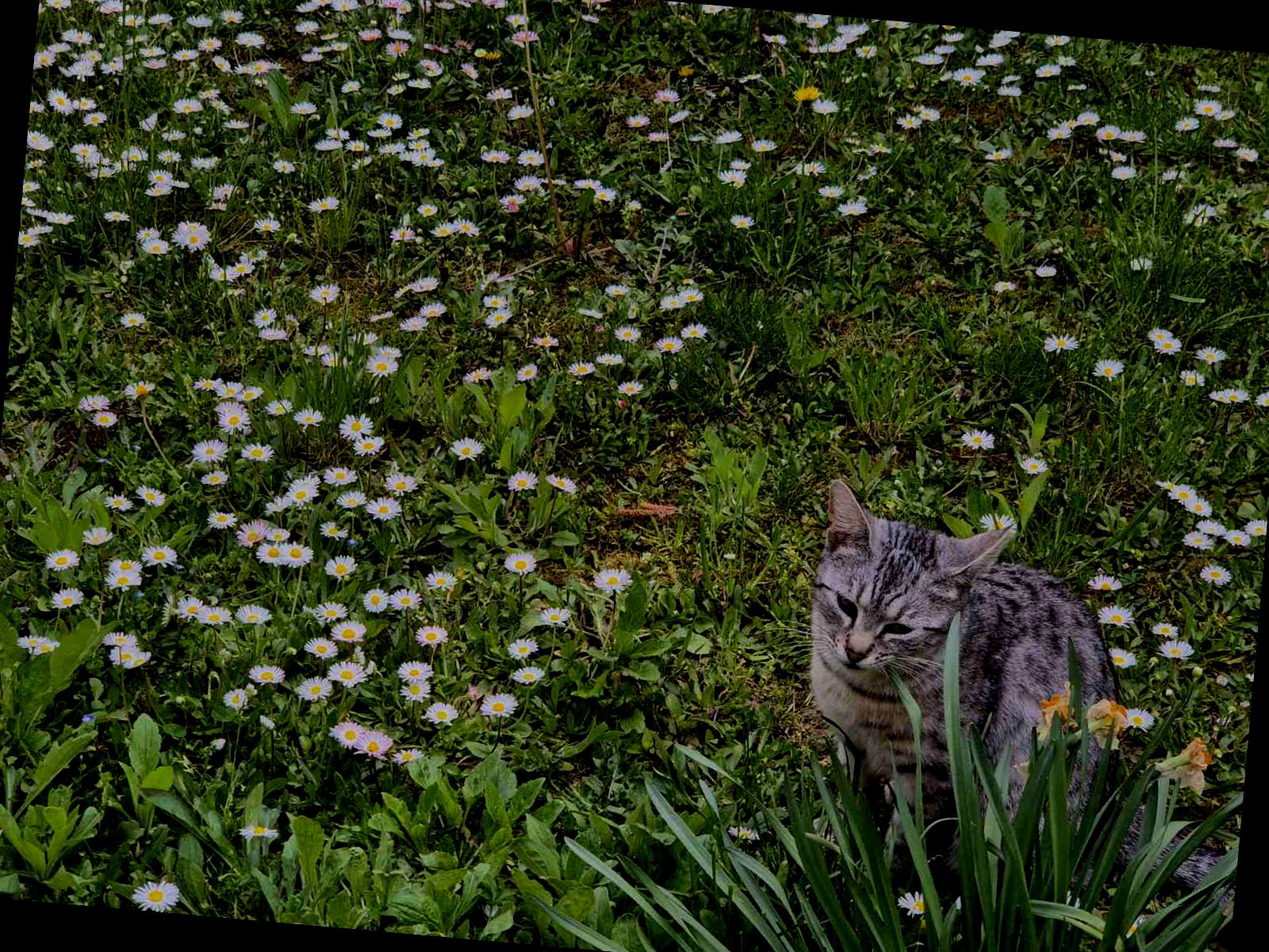macka: (784, 475, 1268, 952)
